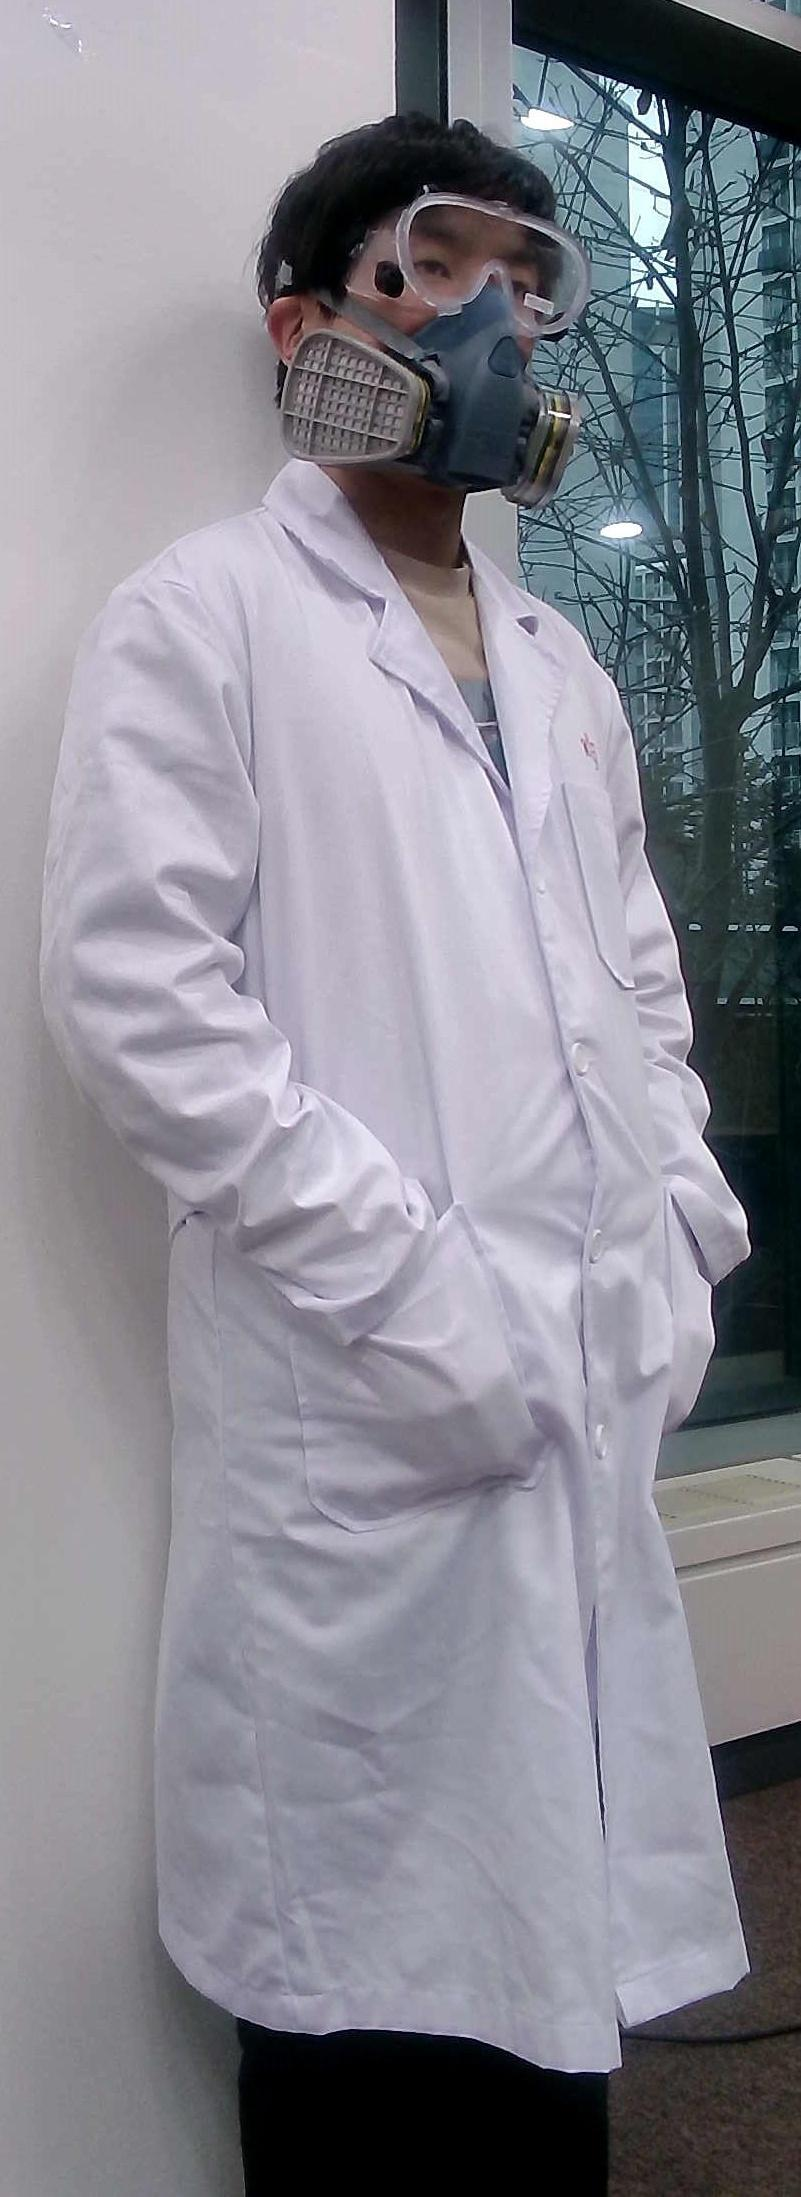lab_coat: (0, 537, 801, 2025)
